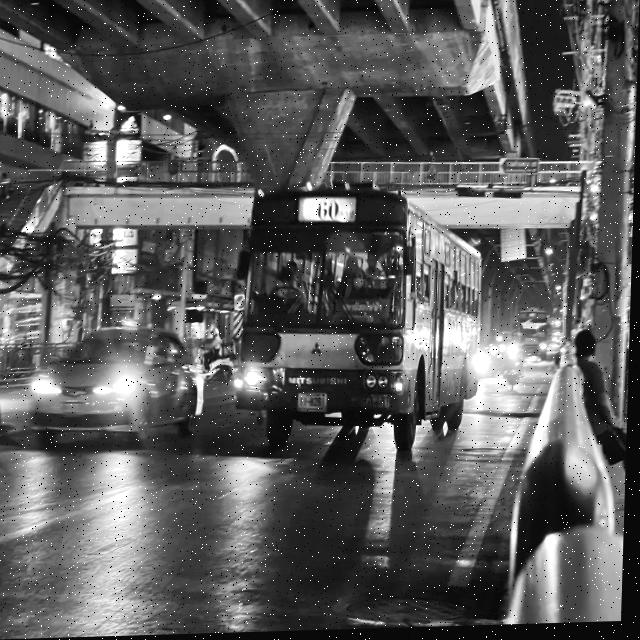BMTA-bus: (235, 187, 485, 461)
Bus Line Number: (299, 197, 358, 227)
Bus Side Number: (350, 396, 394, 412)
Destination Sign: (335, 300, 393, 329)
